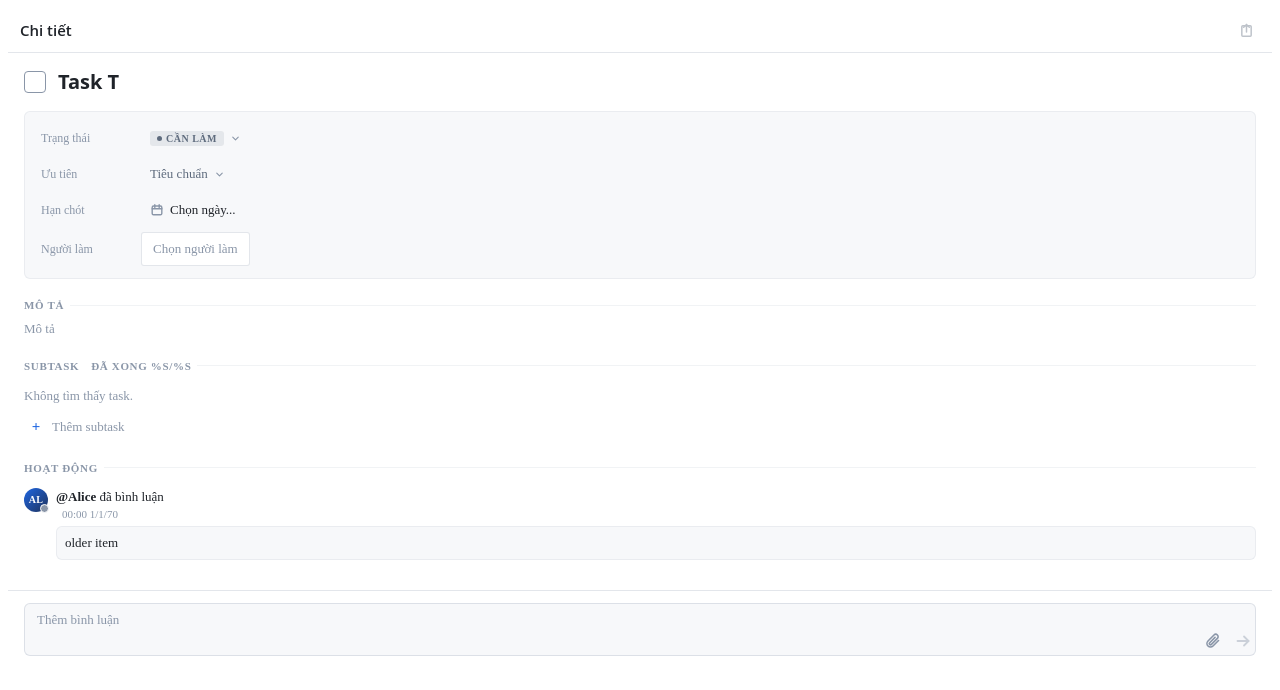
Test case: GAP 2 — AC8 new comment renders as the first feed item (task-details-panel) › AC8: after creating a comment from the composer it renders as the FIRST (top) Activity feed item
This screenshot has width=1280, height=690.
Type "fresh top" into the text box with placeholder "Thêm bình luận" at (616, 629), box [37,604,1195,655]
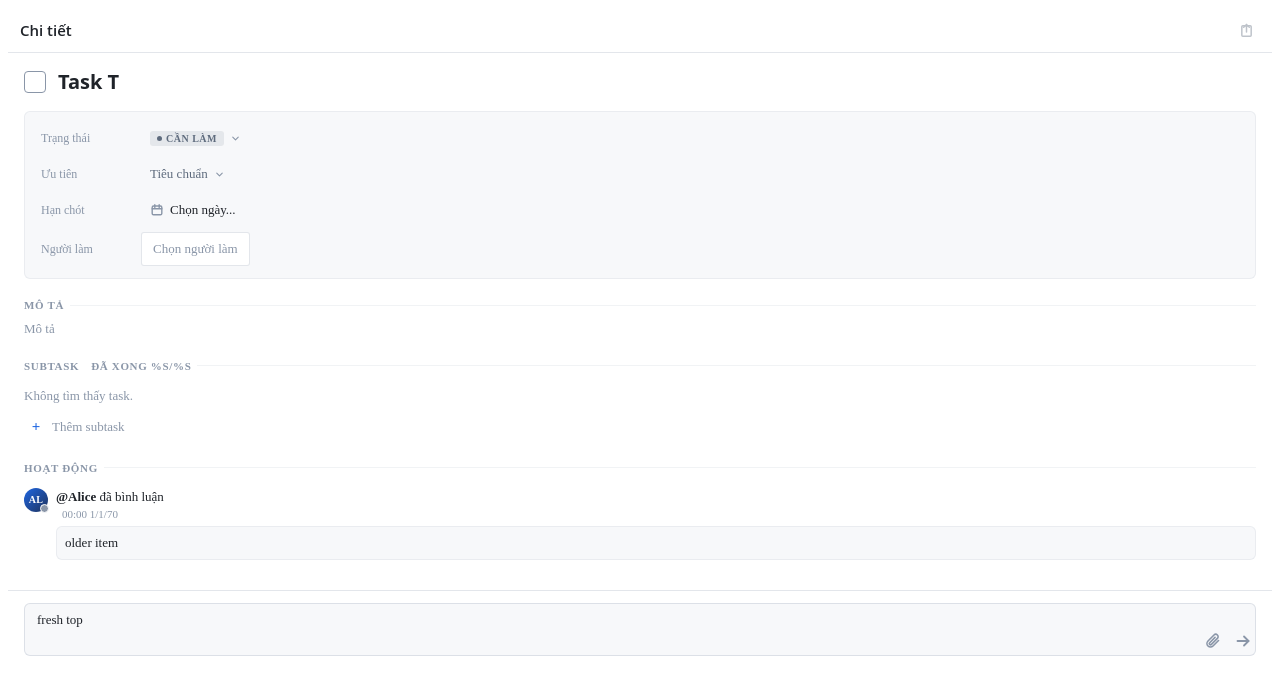
Click the button named "Gửi" at (1242, 641), box [1229,628,1255,654]
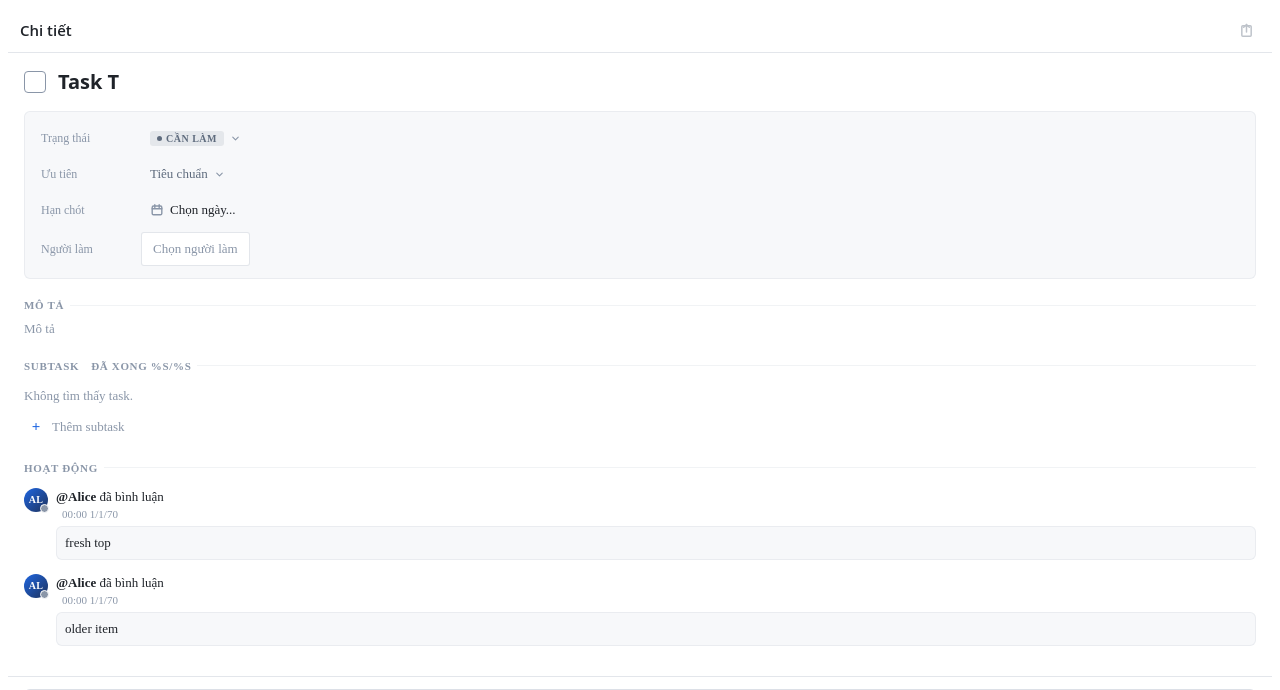
Expected: the text "fresh top" is shown, [56,526,1256,560]
